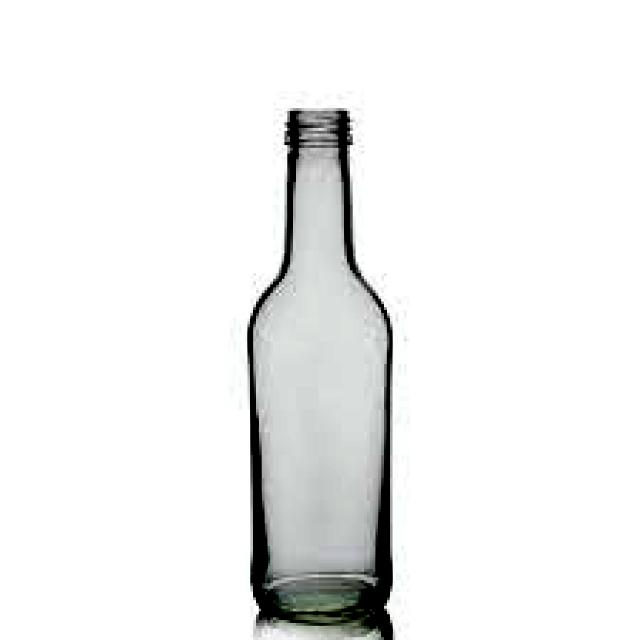Glass: (244, 101, 393, 639)
